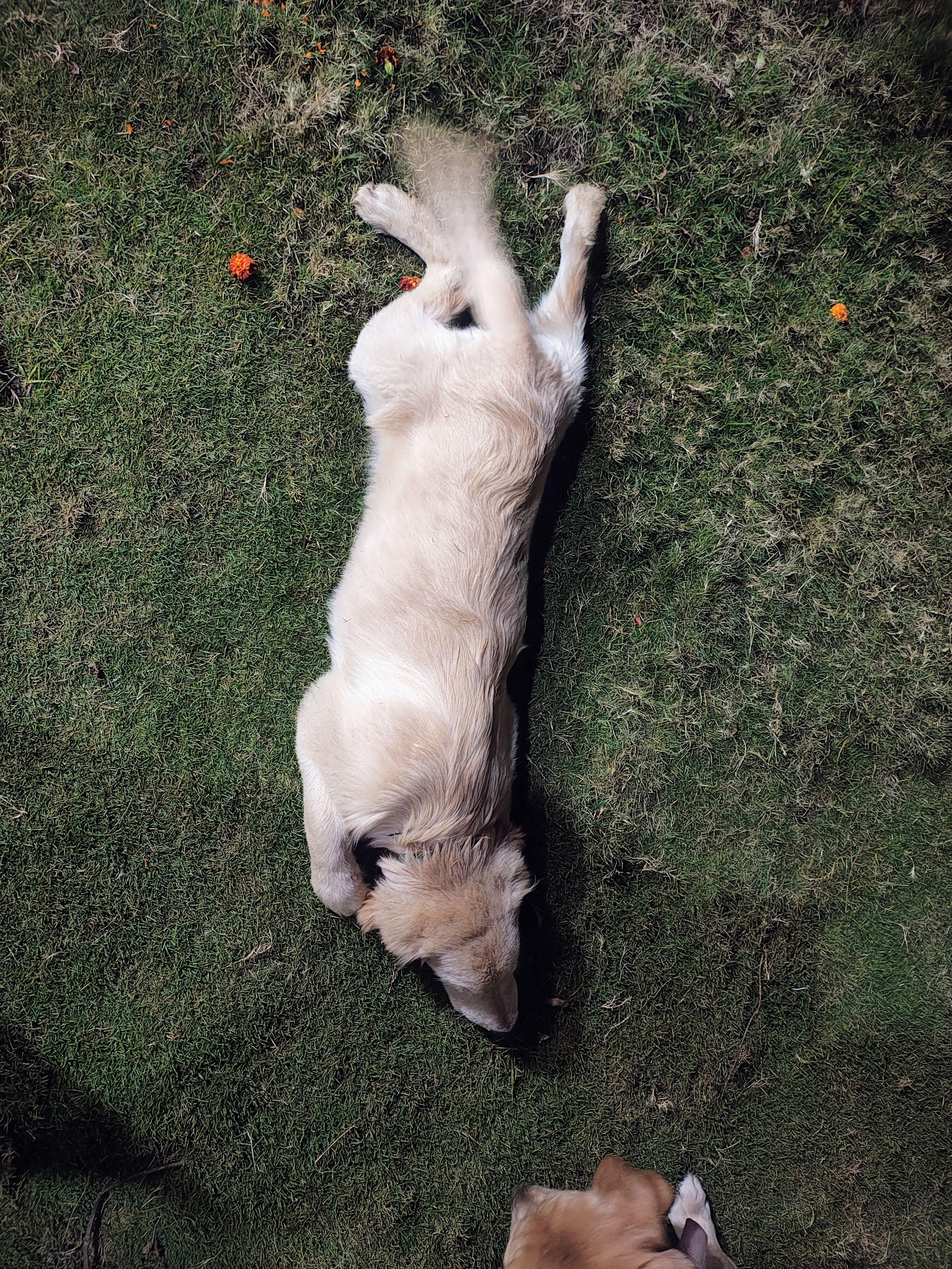adult_dog: (294, 124, 610, 1037)
puppy-dog: (503, 1154, 729, 1269)
